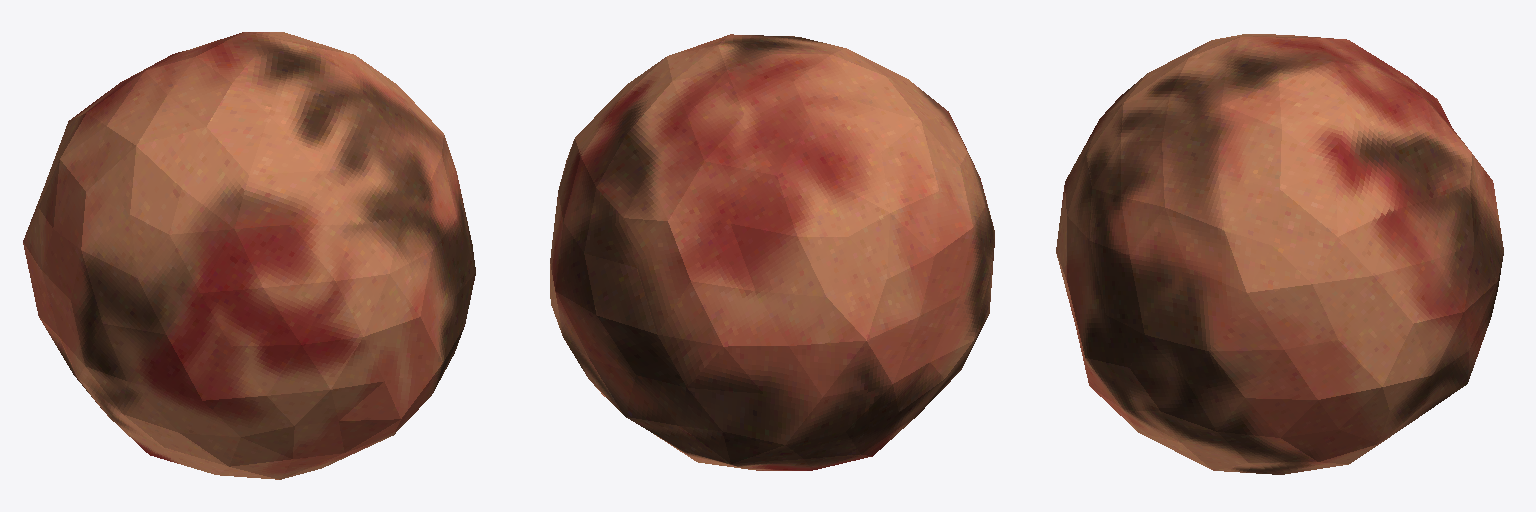
The picture shows the model from 3 angles: view 1: azimuth 30°, elevation 25°; view 2: azimuth 150°, elevation 25°; view 3: azimuth 270°, elevation 25°; orthographic projection.
Parts seen in each view (by area): view 1: art_fireball_Icosphere; view 2: art_fireball_Icosphere; view 3: art_fireball_Icosphere.
Boxes of the visible parts, <box> form: art_fireball_Icosphere: <box>23,32,475,479</box>; art_fireball_Icosphere: <box>550,34,994,470</box>; art_fireball_Icosphere: <box>1056,34,1503,474</box>.
Size of the model in its own units: 1.97 by 2 by 2.01.
Materials: 1 (1 with a texture image).